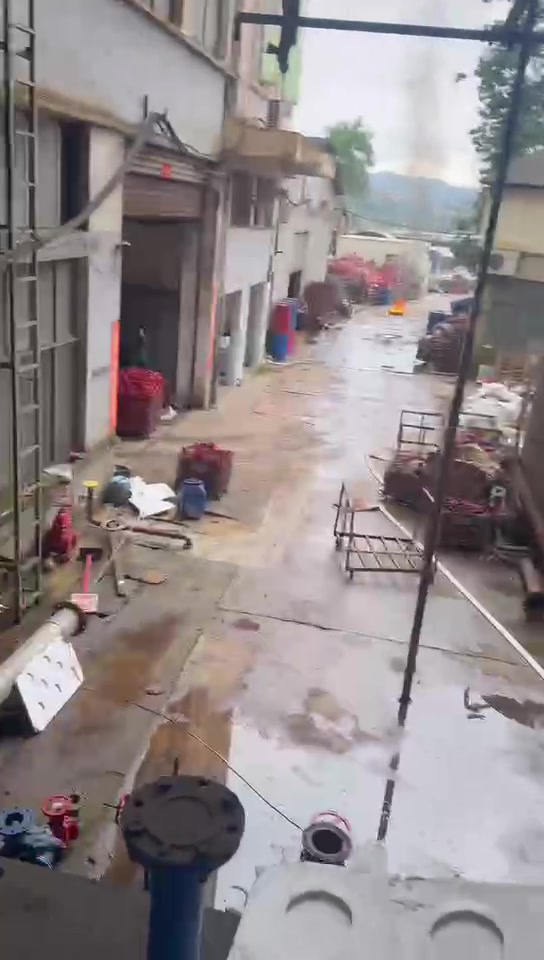fire: (387, 296, 404, 315)
